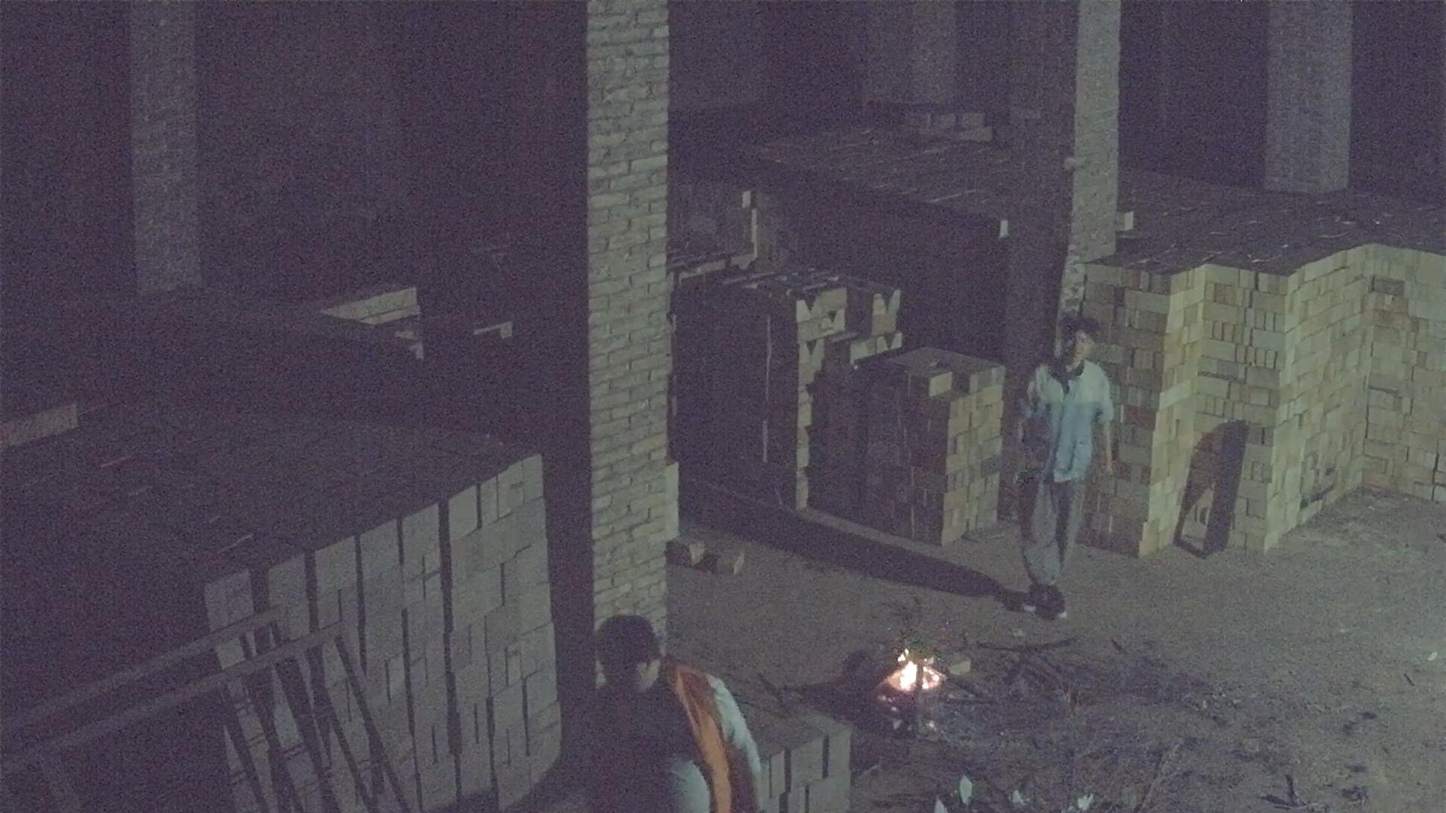fire: (881, 640, 946, 696)
